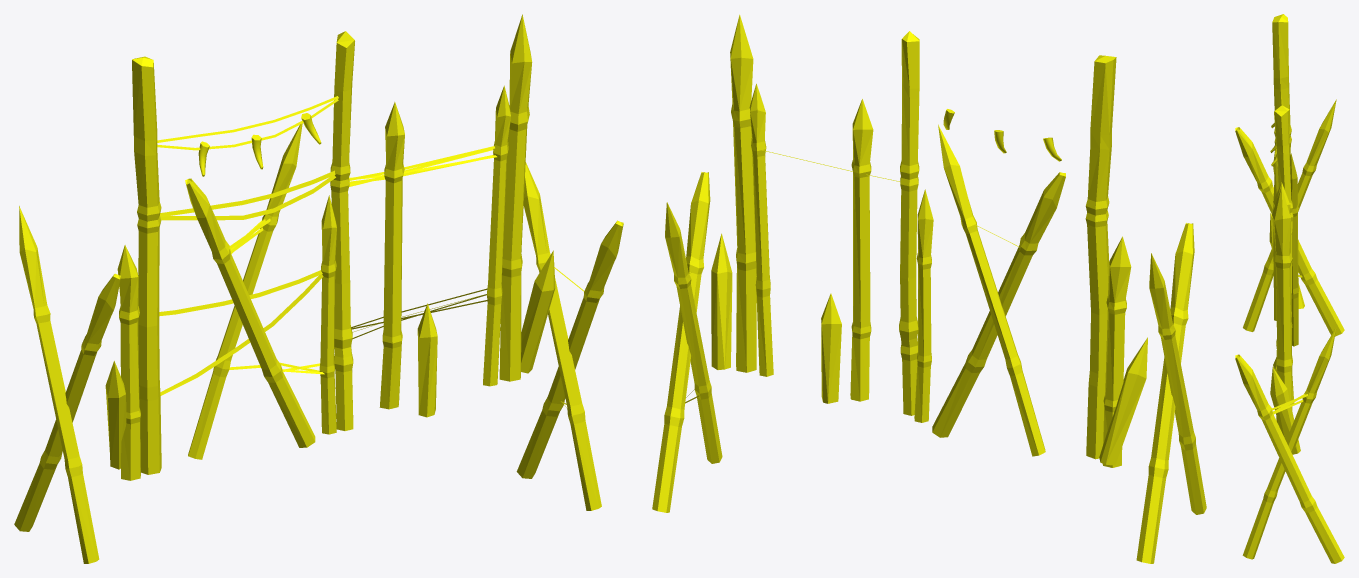
The model's file is camp_manticore_gate00.glb.
3 views of the same model, side by side, from view 1: azimuth 30°, elevation 25°; view 2: azimuth 150°, elevation 25°; view 3: azimuth 270°, elevation 25° (orthographic). The views are drawn at different scales.
Parts seen in each view (by area): view 1: camp_manticore_gate00; view 2: camp_manticore_gate00; view 3: camp_manticore_gate00.
Boxes of the visible parts, x1,y1,x2,y2 form: camp_manticore_gate00: (14,14,623,563); camp_manticore_gate00: (652,14,1206,563); camp_manticore_gate00: (1235,14,1344,563).
Bounding box in the file's own units: 19.67 × 18.99 × 4.75.
Materials: 1 (1 with a texture image).
